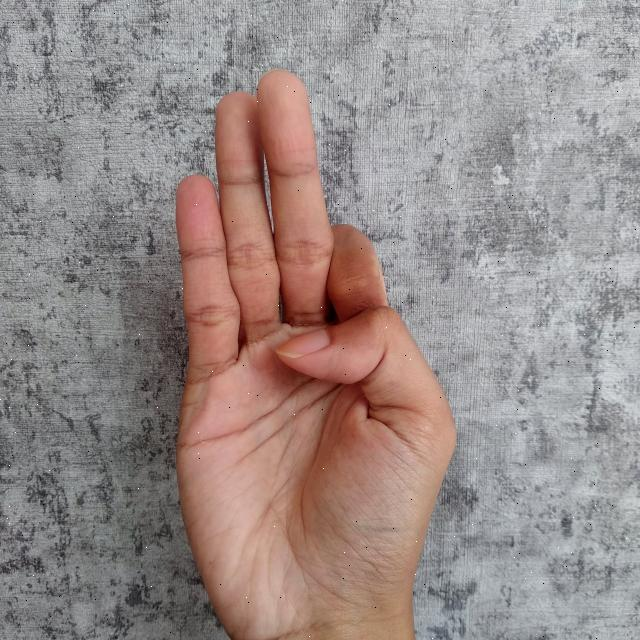F: (174, 65, 462, 640)
